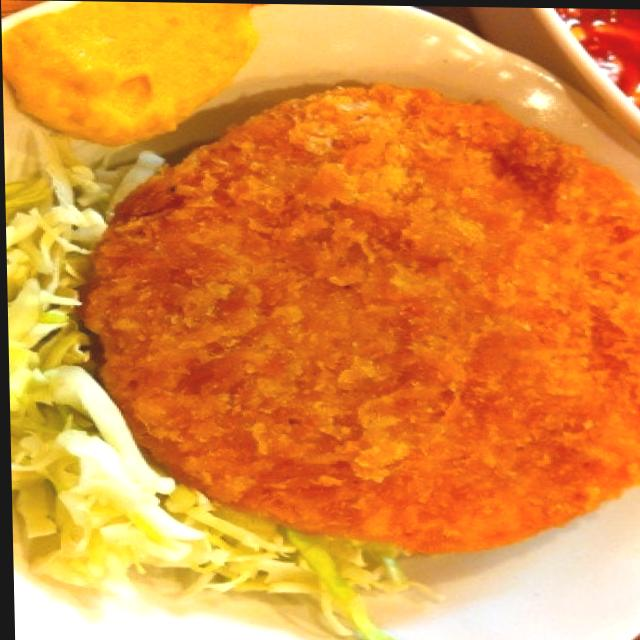炸货点心: (60, 76, 640, 579)
